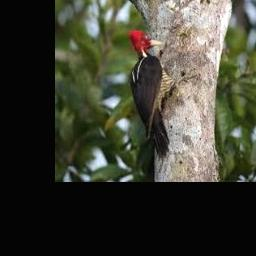Woodpecker: (128, 29, 198, 158)
